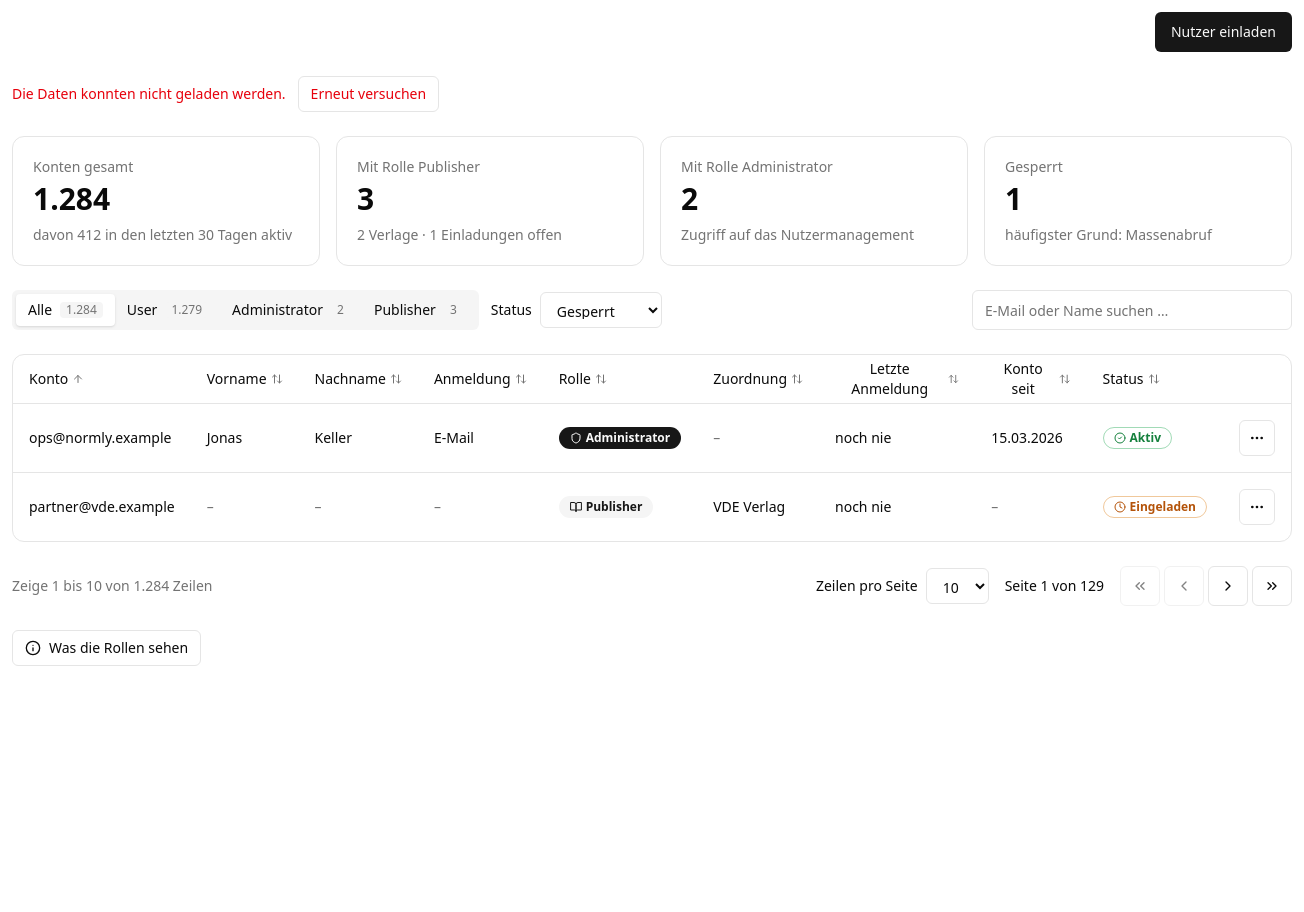
Scenario: UserManagementContent › keeps the table on a failed refetch and offers a retry
Expected: the message shows "Die Daten konnten nicht geladen werden.", [12, 84, 286, 103]
Expected: the table is shown, [13, 355, 1291, 540]
What coordinates should you click on to do the following:
click the button "Erneut versuchen"
I would click on:
 (368, 94)
Its box is [298, 76, 439, 112].
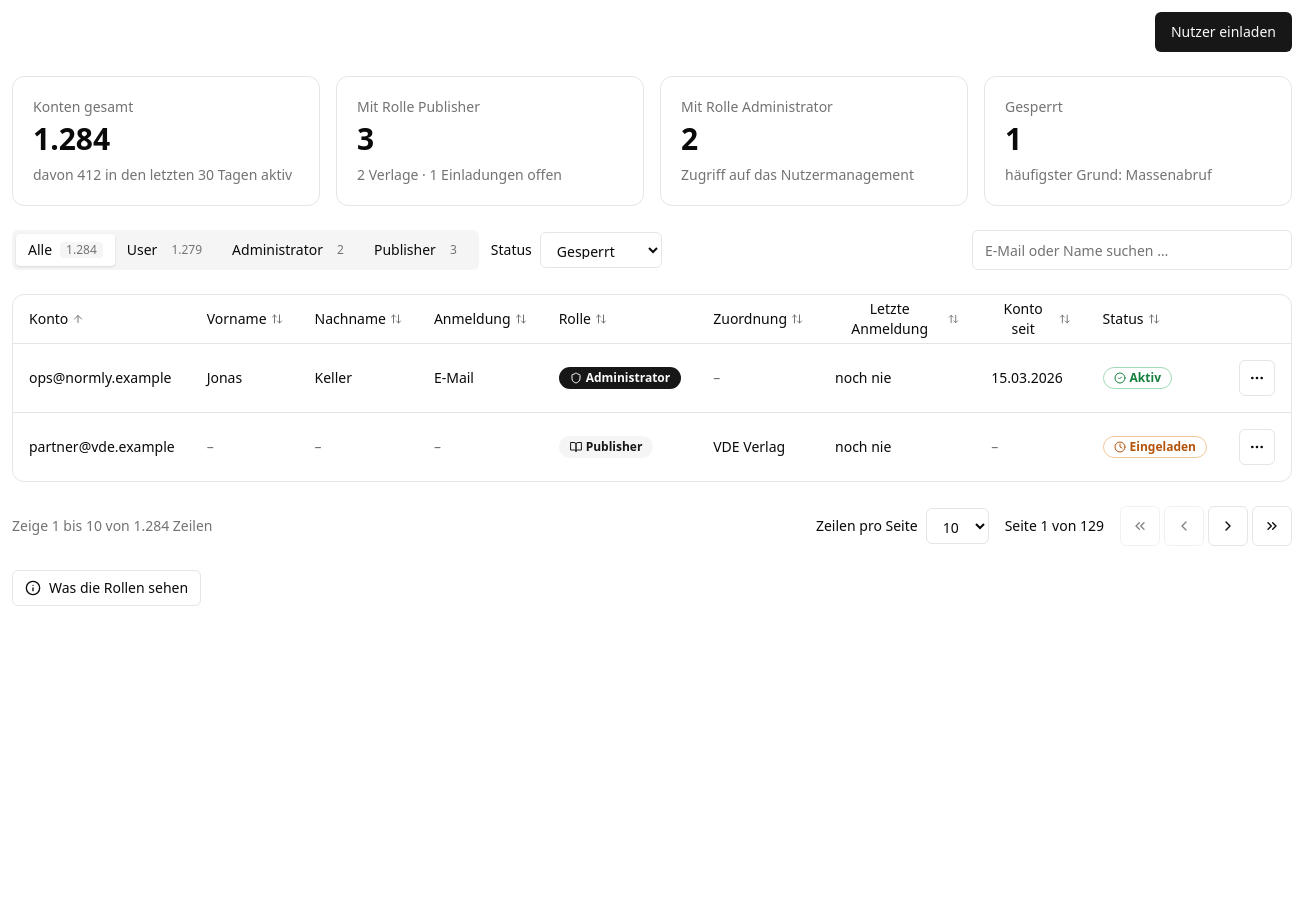
Expected: the table is shown, [13, 295, 1291, 480]
Now the message "Die Daten konnten nicht geladen werden. Erneut versuchen" is gone
